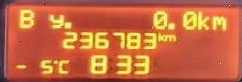-: (165, 22, 174, 29), (62, 21, 70, 28)
0: (182, 10, 197, 29), (152, 10, 167, 29)
2: (62, 30, 77, 48)
3: (113, 54, 130, 74), (132, 54, 149, 73), (77, 30, 92, 48)
5: (39, 58, 53, 73)
6: (93, 31, 108, 48)
7: (109, 31, 124, 48)
8: (88, 54, 106, 73), (125, 31, 140, 48)
X: (17, 8, 33, 28), (195, 10, 208, 30), (210, 14, 225, 29), (47, 13, 62, 28), (57, 58, 68, 73), (163, 34, 175, 41), (156, 32, 162, 41)
